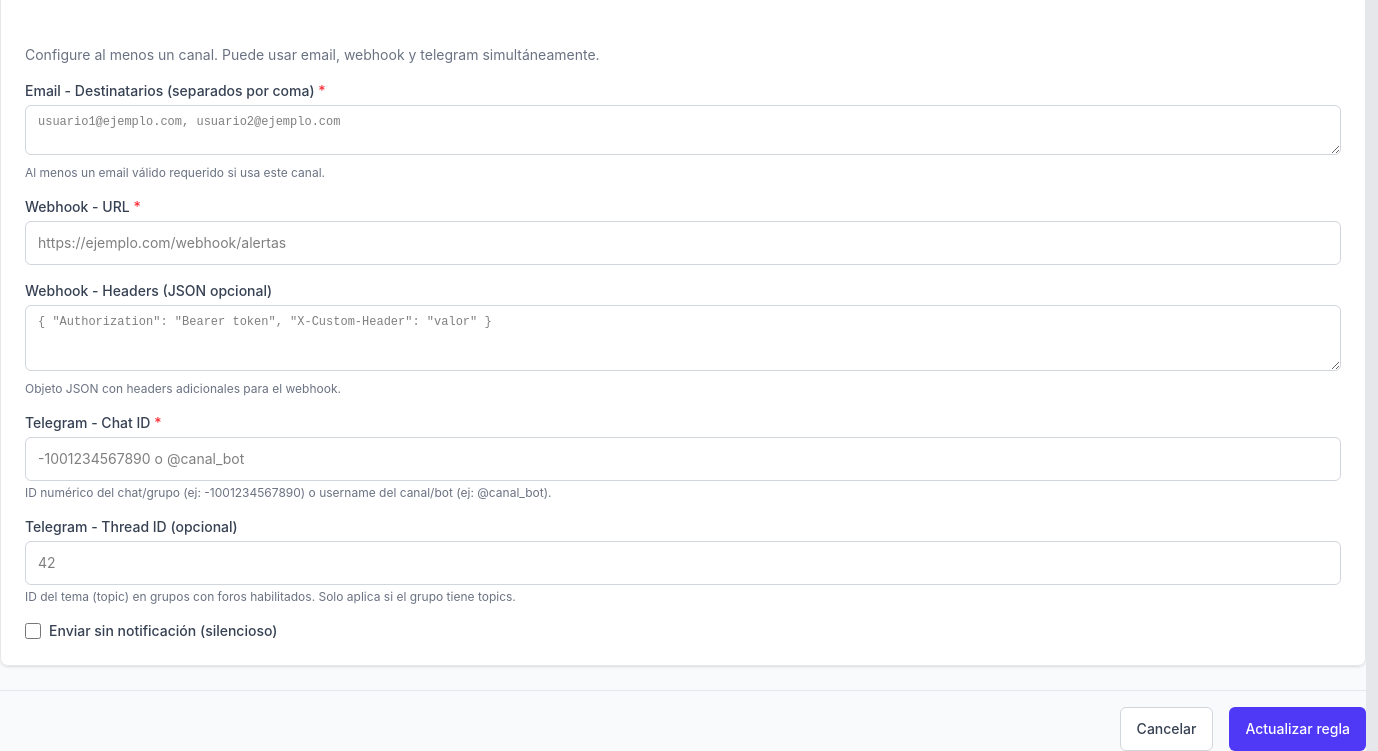
Test case: EditRuleForm › requires at least one channel
The image size is (1378, 751).
(page scrolled)
What coordinates should you click on to do the following:
click the button "Actualizar regla"
I would click on:
 (1298, 729)
Its box is [1230, 707, 1366, 750].
(page scrolled)
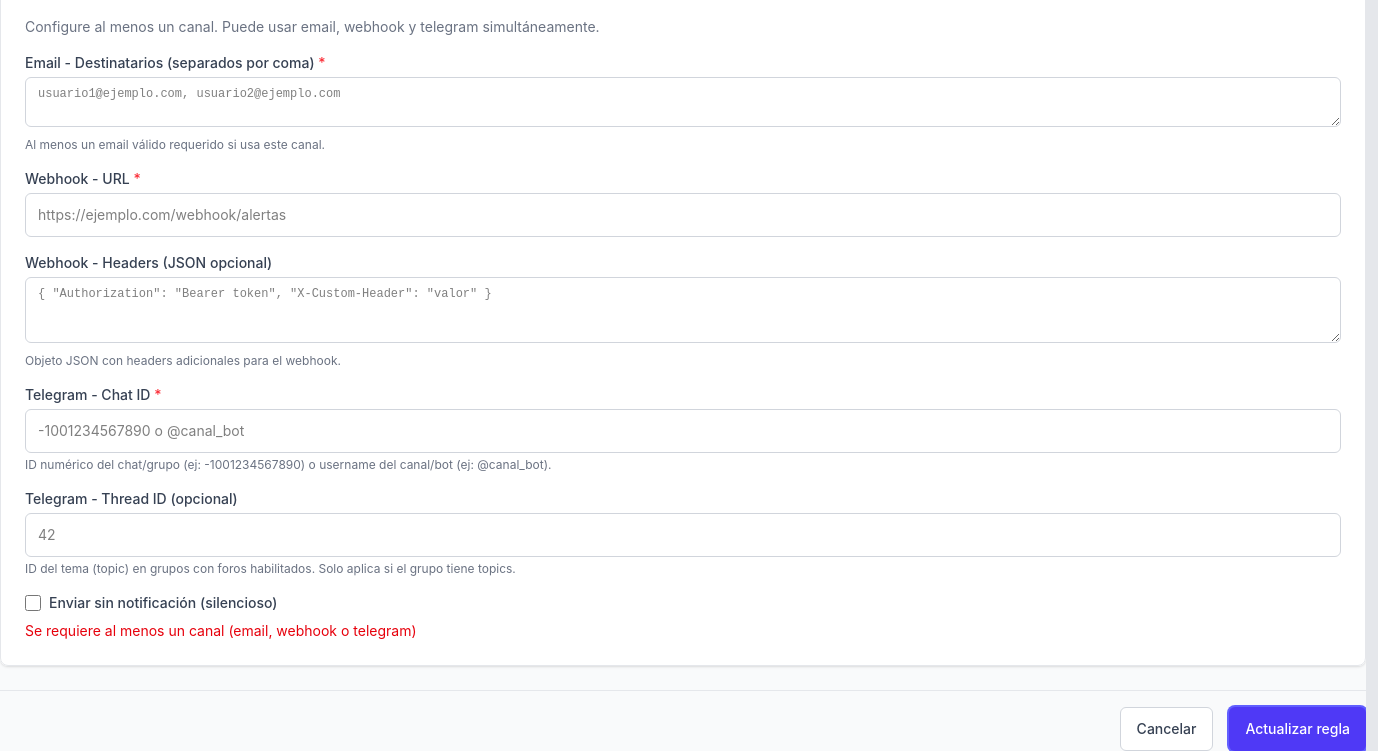
Now the text "Se requiere al menos un canal (email, webhook o telegram)" is shown, box [25, 622, 417, 639]
